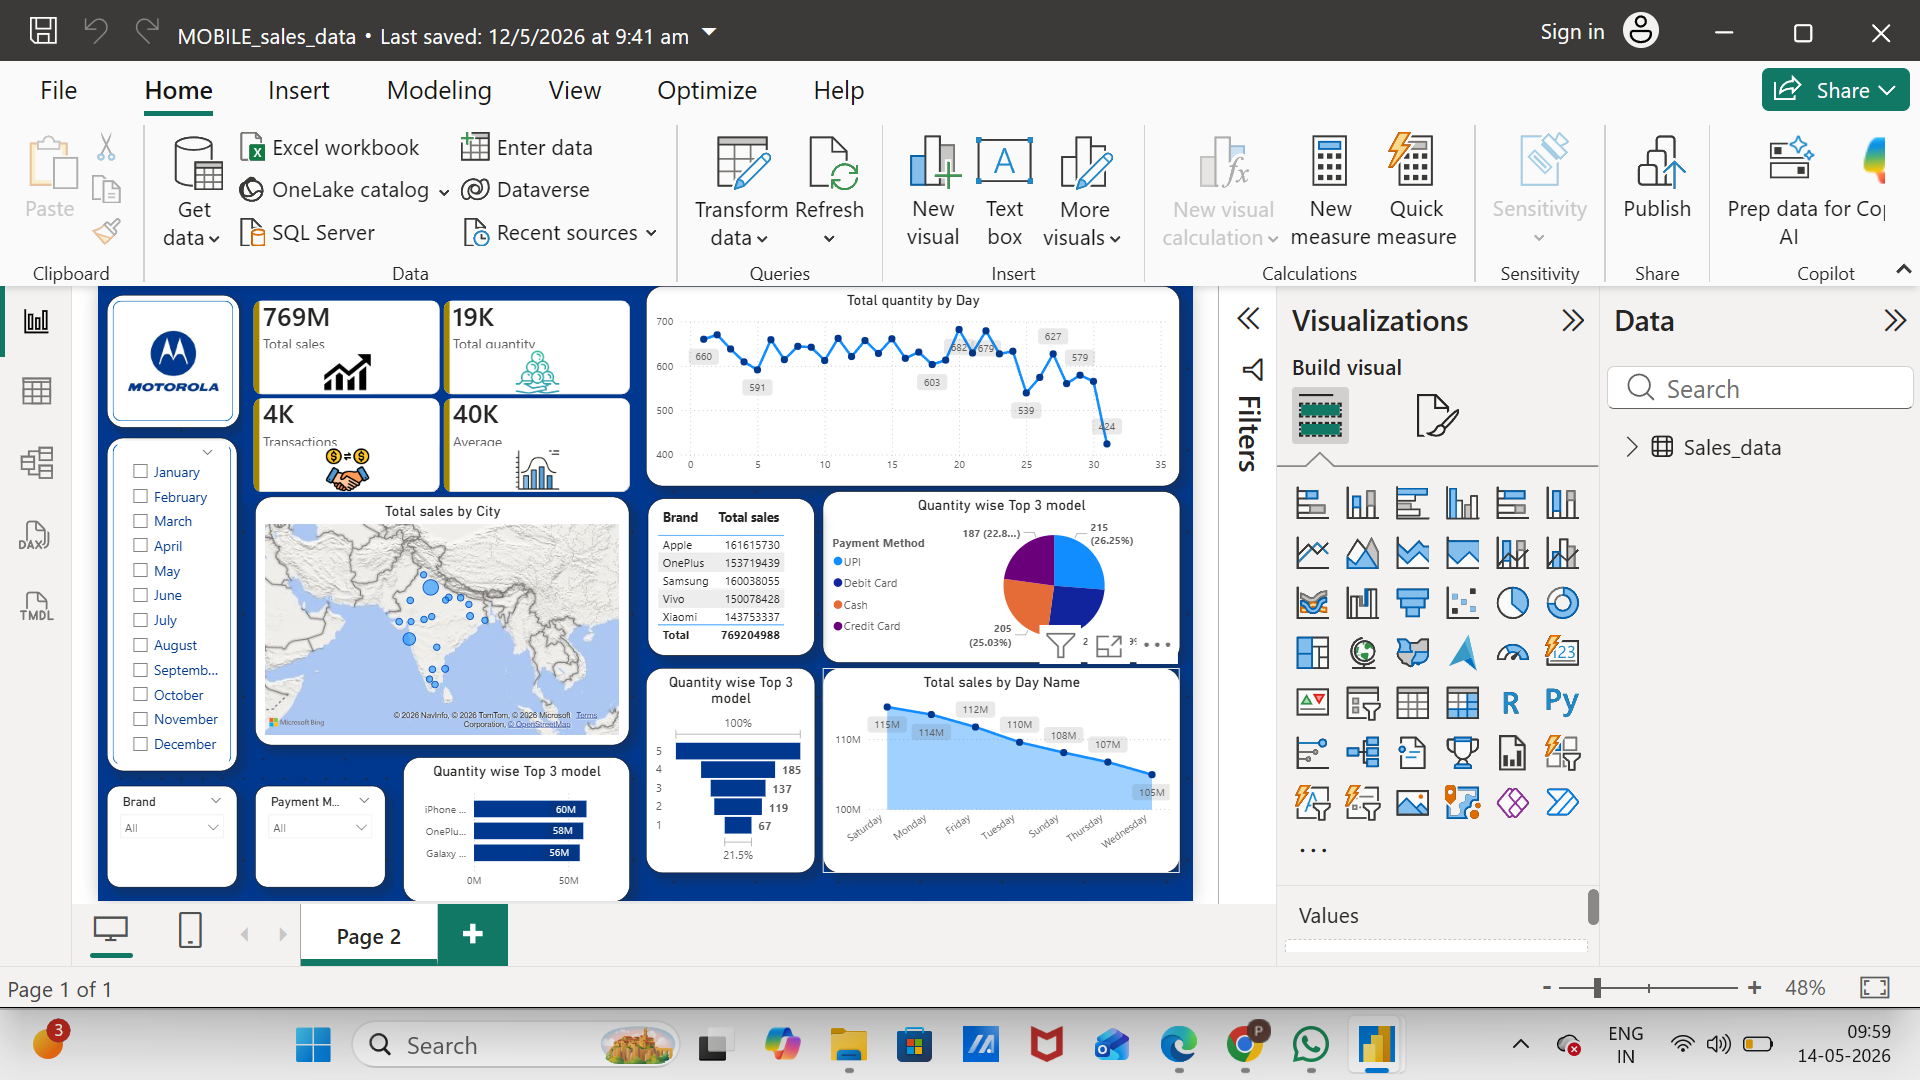

The page's visual inventory and layout, read from the dashboard file:
{"tool":"powerbi","page":{"name":"Dashboard","canvas":[1280,720],"ordinal":0},"visuals":[{"type":"shape","box":[11.3,177.9,152.5,389.6],"z":0},{"type":"shape","box":[10,10,155,155],"z":1000},{"type":"image","box":[26.2,31.2,122.5,112.5],"z":2000},{"type":"slicer","fields":{"Values":["Sales_data.Date.Variation.Date Hierarchy.Month"]},"box":[22.6,180.7,129.9,381.2],"z":3000},{"type":"cardVisual","fields":{"Data":["Sales_data.Total sales","Sales_data.Total quantity","Sales_data.Transactions","Sales_data.Average"]},"box":[164.9,0,475.8,258.8],"z":4000},{"type":"map","fields":{"Category":["Sales_data.City"],"Size":["Sales_data.Total sales"]},"box":[183.5,245.6,437.6,290.8],"z":5000},{"type":"lineChart","fields":{"Category":["Sales_data.Date.Variation.Date Hierarchy.Month","Sales_data.Date.Variation.Date Hierarchy.Day"],"Y":["Sales_data.Total quantity"]},"box":[640.9,0,624,234.4],"z":6000},{"type":"clusteredBarChart","title":"Quantity wise Top 3 model","fields":{"Category":["Sales_data.Mobile Model"],"Y":["Sales_data.Total sales"]},"box":[356.9,551,265,169],"z":7000},{"type":"pieChart","title":"Quantity wise Top 3 model","fields":{"Category":["Sales_data.Payment Method"],"Y":["Sales_data.Transactions"]},"box":[847.1,240,417.9,200.5],"z":8000},{"type":"funnel","title":"Quantity wise Top 3 model","fields":{"Category":["Sales_data.Customer Ratings"],"Y":["CountNonNull(Sales_data.Customer Ratings)"]},"box":[640.9,446.1,197.6,240],"z":9000},{"type":"areaChart","fields":{"Category":["Sales_data.Day Name"],"Y":["Sales_data.Total sales"]},"box":[847.1,446.1,417.9,240],"z":10000},{"type":"tableEx","fields":{"Values":["Sales_data.Brand","Sales_data.Total sales"]},"box":[643.8,248.5,194.8,183.5],"z":11000},{"type":"slicer","fields":{"Values":["Sales_data.Brand"]},"box":[10.4,584.3,152.3,119],"z":12000},{"type":"slicer","fields":{"Values":["Sales_data.Payment Method"]},"box":[183.7,584.3,152.3,119],"z":13000}]}

Visuals, with their boxes on the page's 1280x720 design canvas (x1, y1, x2, y2). These are canvas units, not pixel positions in the 1920x1080 screenshot, which may show the page scaled, cropped or inside an application window:
shape: (11,178,164,568)
shape: (10,10,165,165)
image: (26,31,149,144)
slicer - Sales_data.Date.Variation.Date Hierarchy.Month: (23,181,152,562)
cardVisual - Sales_data.Total sales x Sales_data.Total quantity: (165,0,641,259)
map - Sales_data.City x Sales_data.Total sales: (184,246,621,536)
lineChart - Sales_data.Date.Variation.Date Hierarchy.Month x Sales_data.Date.Variation.Date Hierarchy.Day: (641,0,1265,234)
"Quantity wise Top 3 model" clusteredBarChart: (357,551,622,720)
"Quantity wise Top 3 model" pieChart: (847,240,1265,440)
"Quantity wise Top 3 model" funnel: (641,446,838,686)
areaChart - Sales_data.Day Name x Sales_data.Total sales: (847,446,1265,686)
tableEx - Sales_data.Brand x Sales_data.Total sales: (644,248,839,432)
slicer - Sales_data.Brand: (10,584,163,703)
slicer - Sales_data.Payment Method: (184,584,336,703)
